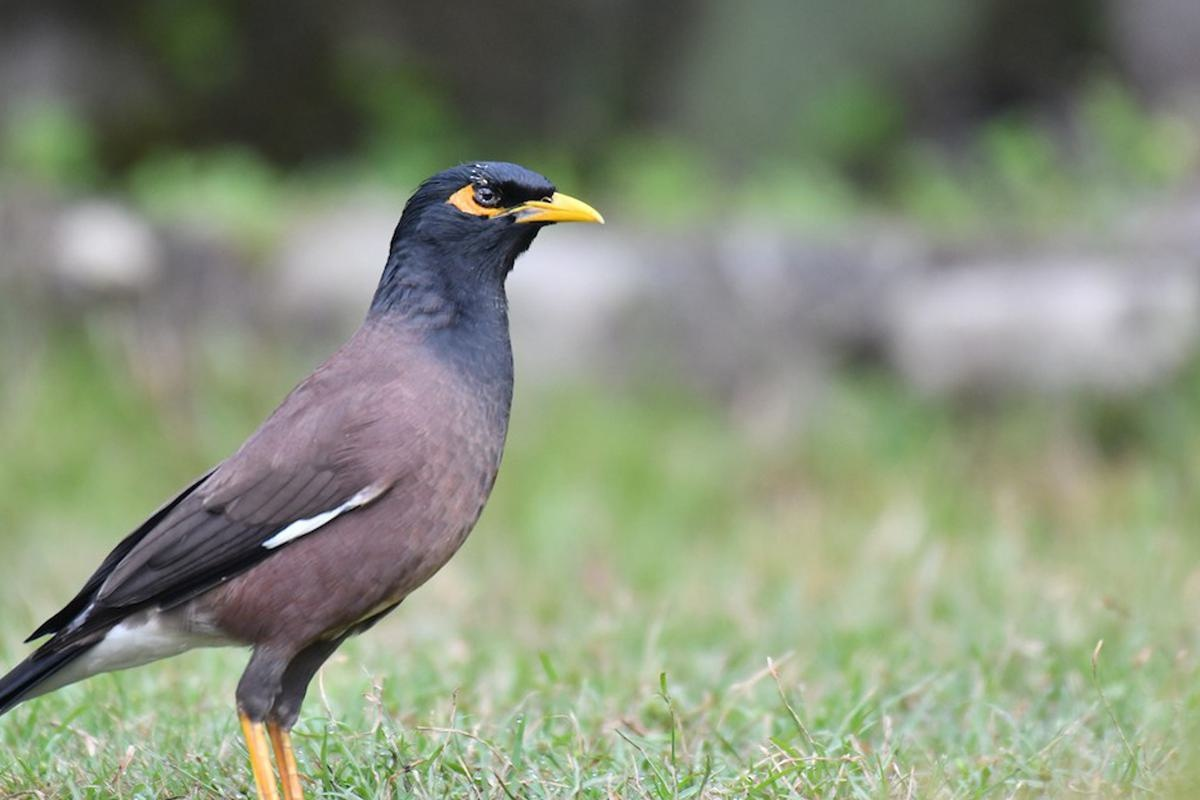myna: (1, 98, 621, 792)
